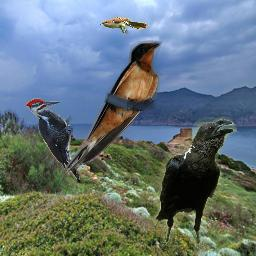Crow: (153, 116, 237, 255)
Cuckoo: (100, 17, 149, 34)
Swallow: (60, 39, 164, 174)
Woodpecker: (25, 98, 80, 182)
